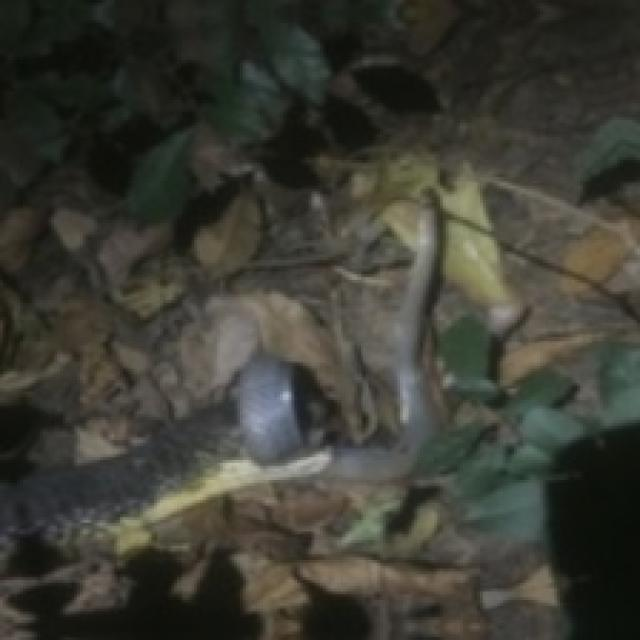king cobra: (143, 194, 440, 520)
